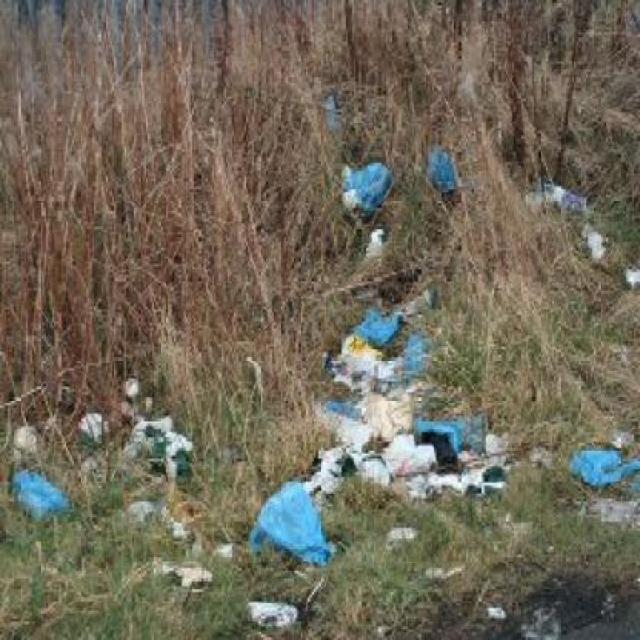garbage: (329, 348, 412, 476), (79, 414, 193, 481), (328, 146, 392, 260), (417, 417, 497, 490), (12, 425, 66, 526), (253, 488, 329, 557), (568, 443, 638, 480), (128, 495, 190, 530), (152, 546, 204, 584), (355, 301, 398, 344), (254, 589, 298, 629), (531, 177, 584, 206), (432, 139, 456, 186), (114, 374, 138, 412), (580, 226, 604, 250), (622, 265, 638, 276)
